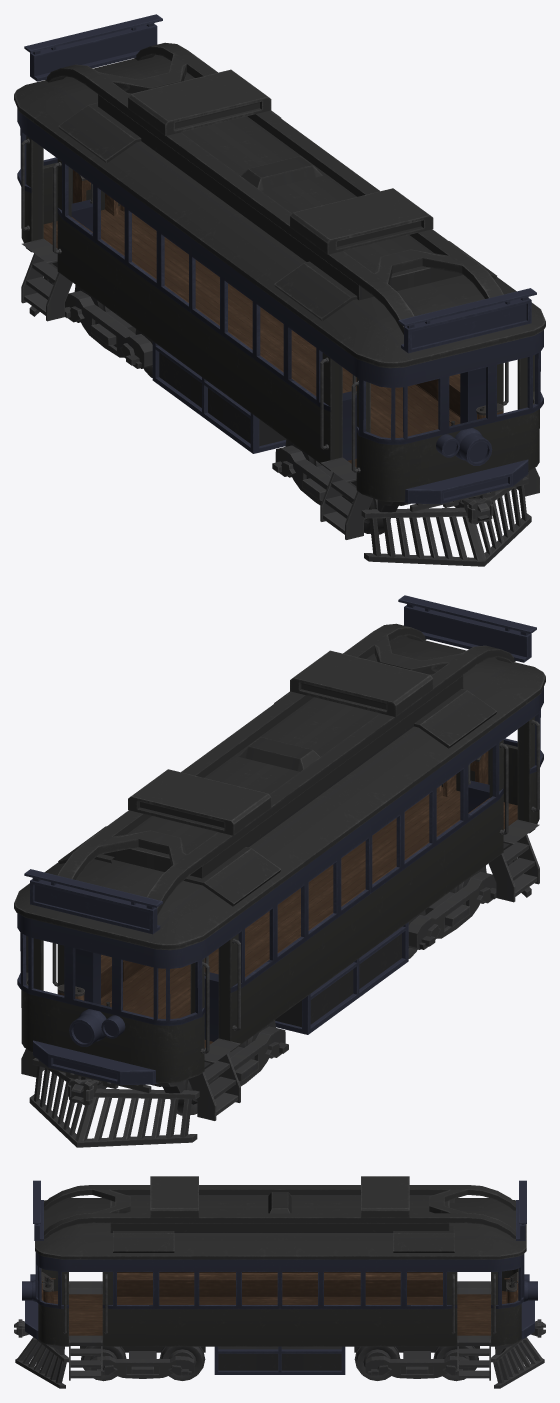
The model's file is tram.fbx.
The picture shows the model from 3 angles, top to bottom: view 1: azimuth 30°, elevation 25°; view 2: azimuth 150°, elevation 25°; view 3: azimuth 270°, elevation 25°; orthographic projection. The views are drawn at different scales.
Parts seen in each view (by area): view 1: top, main, etc, under, main.001, in; view 2: top, main, etc, under, main.001, in; view 3: top, main.001, main, under, etc, in.
Boxes of the visible parts, <box> form: top: <box>14,14,545,368</box>; main: <box>17,108,543,502</box>; etc: <box>21,138,539,566</box>; under: <box>65,285,480,534</box>; main.001: <box>415,362,508,423</box>; in: <box>73,170,503,419</box>; top: <box>14,595,545,950</box>; main: <box>17,687,543,1083</box>; etc: <box>21,719,539,1147</box>; under: <box>81,865,496,1115</box>; main.001: <box>52,943,145,1004</box>; in: <box>57,751,488,1000</box>; top: <box>33,1176,526,1259</box>; main.001: <box>102,1259,457,1346</box>; main: <box>35,1252,524,1346</box>; under: <box>80,1346,479,1381</box>; etc: <box>14,1274,545,1388</box>; in: <box>41,1272,518,1303</box>.
Bounding box in the file's own units: 598 × 2188 × 788.
